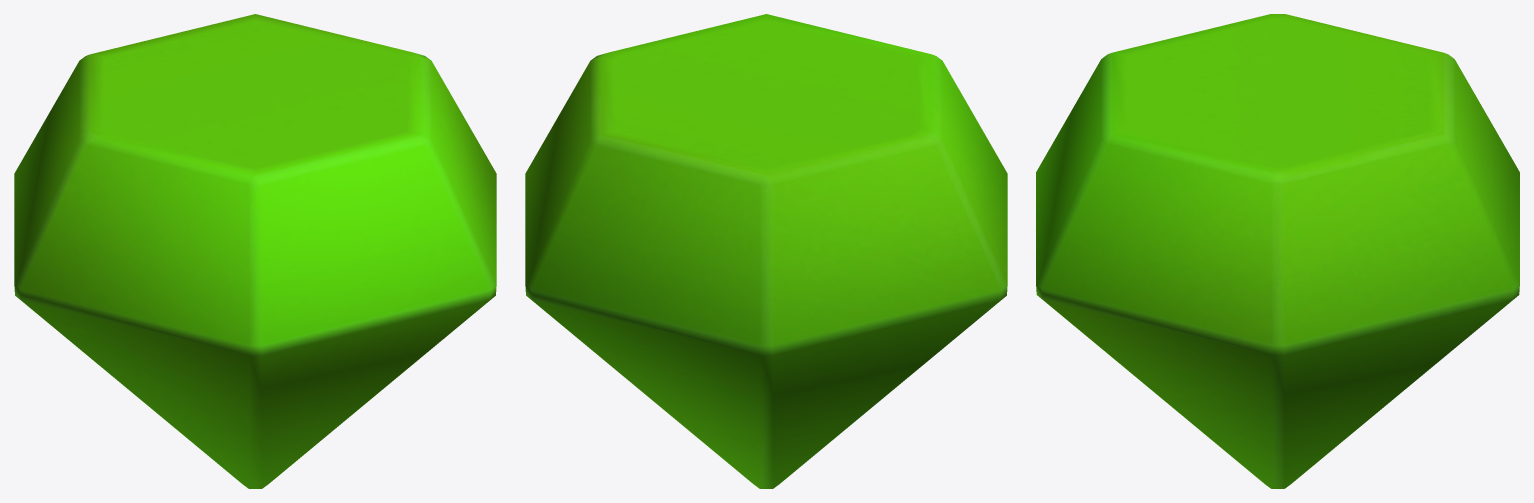
Rendered from diamond-green.glb.
3 renders of one model, left to right at view 1: azimuth 30°, elevation 25°; view 2: azimuth 150°, elevation 25°; view 3: azimuth 270°, elevation 25°, orthographic.
Parts seen in each view (by area): view 1: Diamond_Green_Diamond_Green_0; view 2: Diamond_Green_Diamond_Green_0; view 3: Diamond_Green_Diamond_Green_0.
Part boxes in pixels (x1,y1,x2,y2): Diamond_Green_Diamond_Green_0: [14, 14, 496, 488]; Diamond_Green_Diamond_Green_0: [525, 14, 1007, 488]; Diamond_Green_Diamond_Green_0: [1036, 14, 1519, 488].
Size of the model in its own units: 0.3641 by 0.2847 by 0.3194.
Materials: 1 (1 with a texture image).
